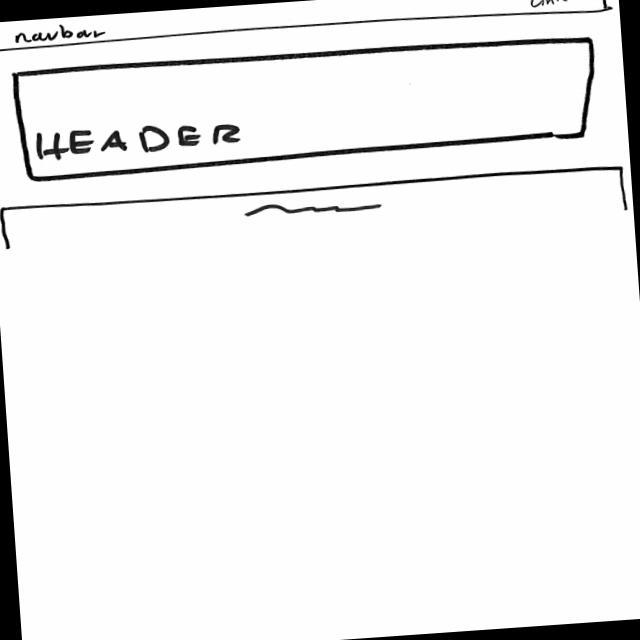container: (9, 29, 603, 184), (0, 0, 613, 55)
label: (32, 116, 244, 162), (14, 21, 106, 44), (527, 0, 573, 8)
text: (240, 195, 384, 222)
